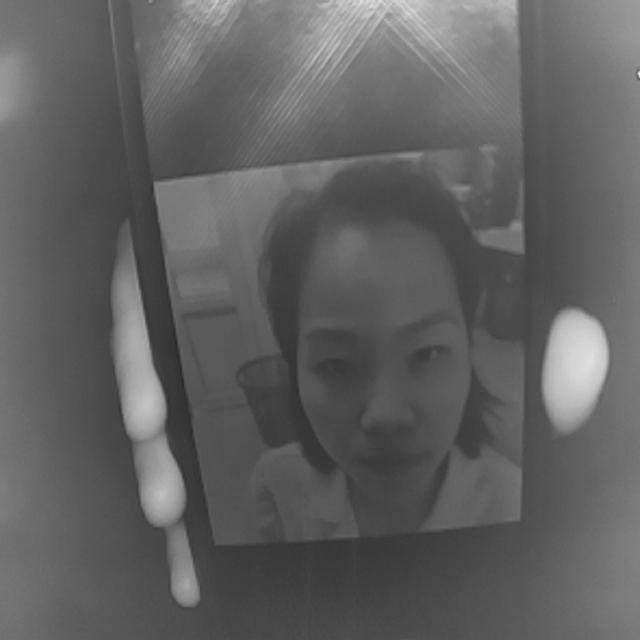fake: (97, 1, 559, 640)
